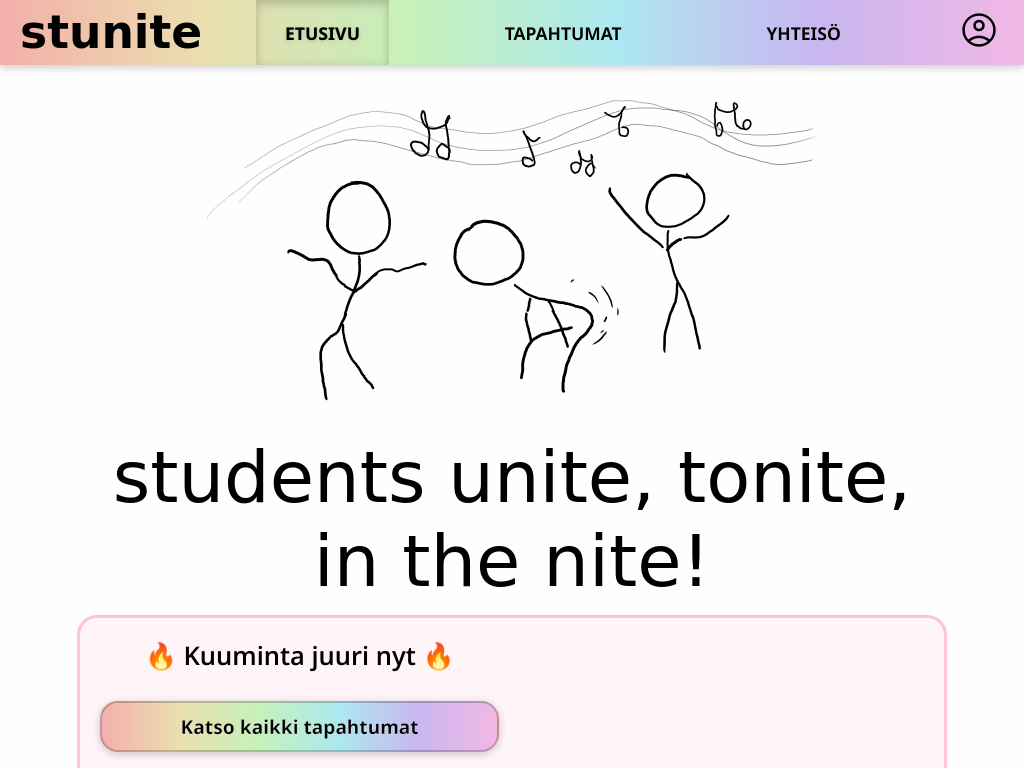
it: Login Modal › should be able to close modal
This screenshot has width=1024, height=768.
open login modal
Click the text with class "material-symbols-outlined".
click(979, 30)  # box [959,10,999,50]
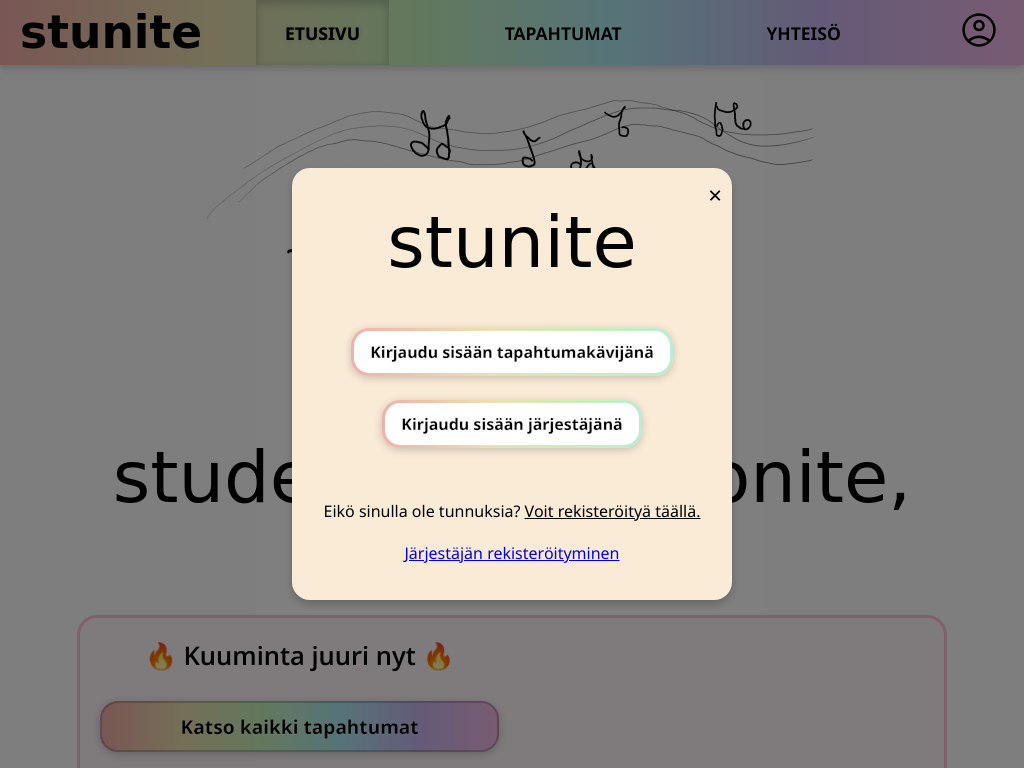
Expected: the element with class "modal-content" is shown, [292,168,732,600]
click X to close modal
Click the text with class "close".
click(715, 195)  # box [708,178,722,211]
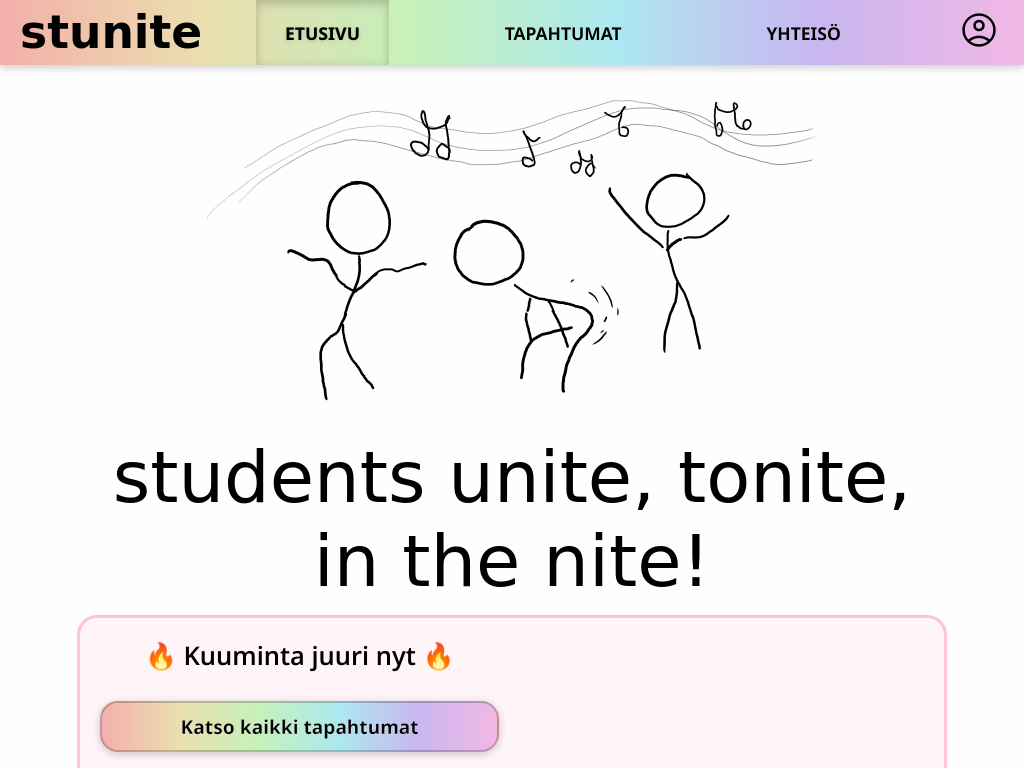
Expected: the element with class "modal-content" is gone
